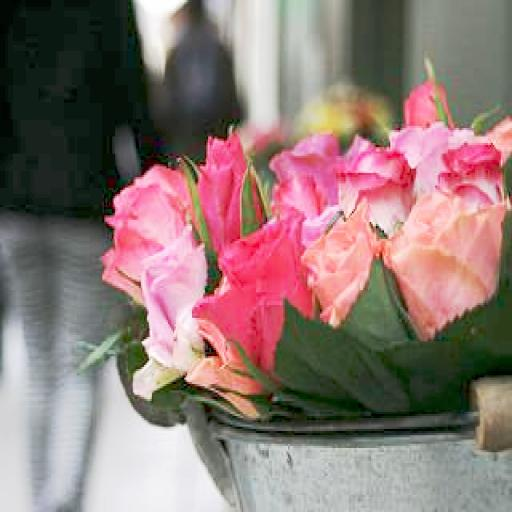rose: (196, 218, 310, 358), (389, 188, 499, 311), (106, 162, 210, 290), (304, 198, 382, 316), (336, 147, 419, 235)
